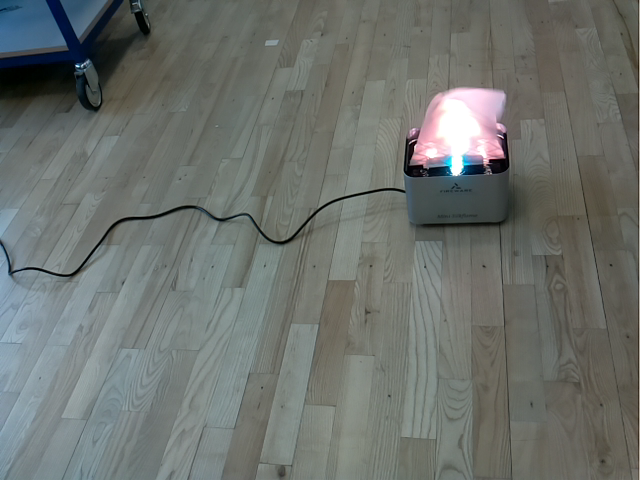fire: (409, 86, 506, 169)
